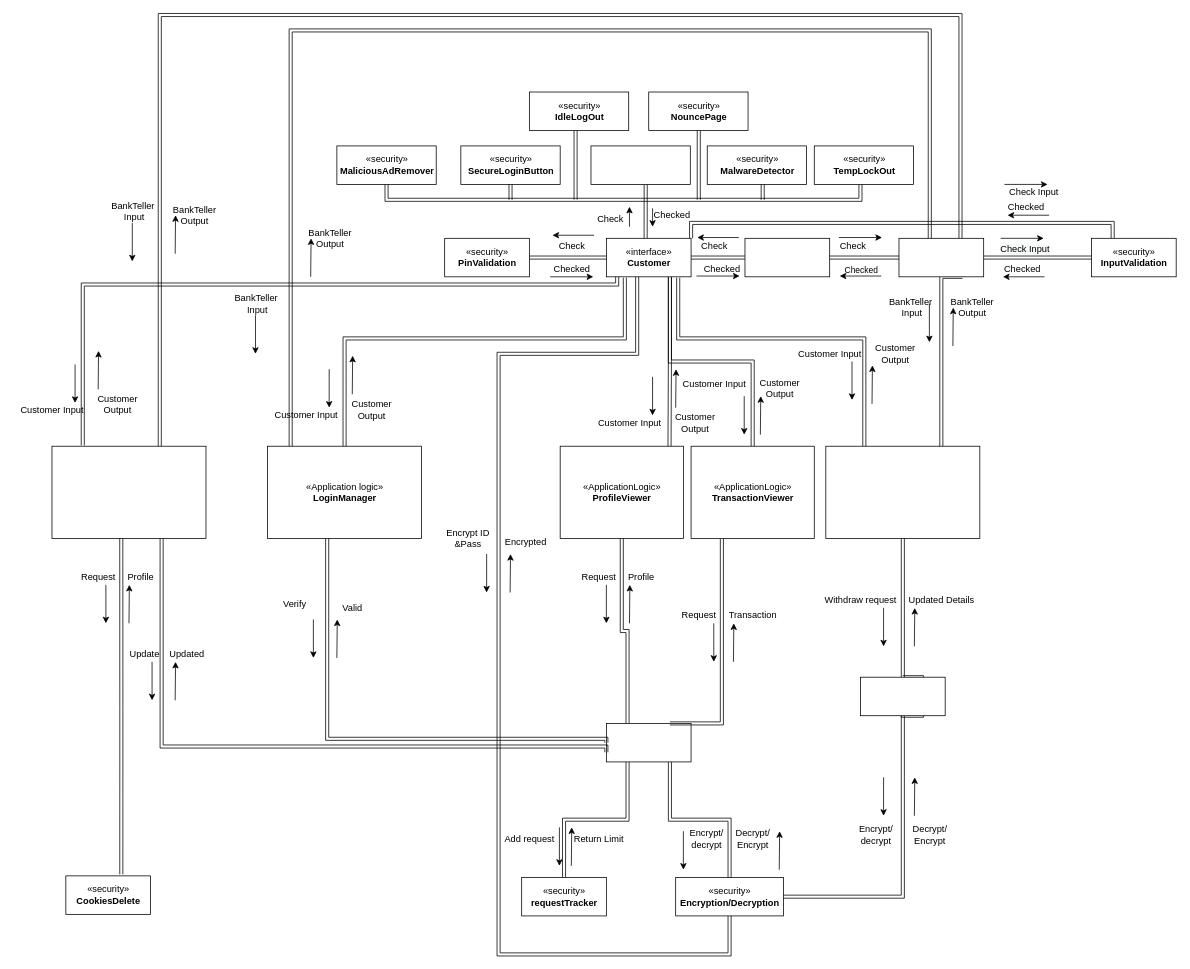
The diagram is 1190 pixels wide and 969 high, and some of its shapes have lost their labels. Each missing label, with the centre of its shape:
"«Application logic» LogoutManager" goes at (128,492).
"«Application logic» WithdrawFundsManager" goes at (902,492).
"«entity» CustomerAccount" goes at (902,696).
"«entity» CustomerInfo" goes at (648,742).
"«interface» BankTeller" goes at (941,257).
"«security» AccessControl" goes at (787,257).
"«security» TwoPointVerification" goes at (640,164).
